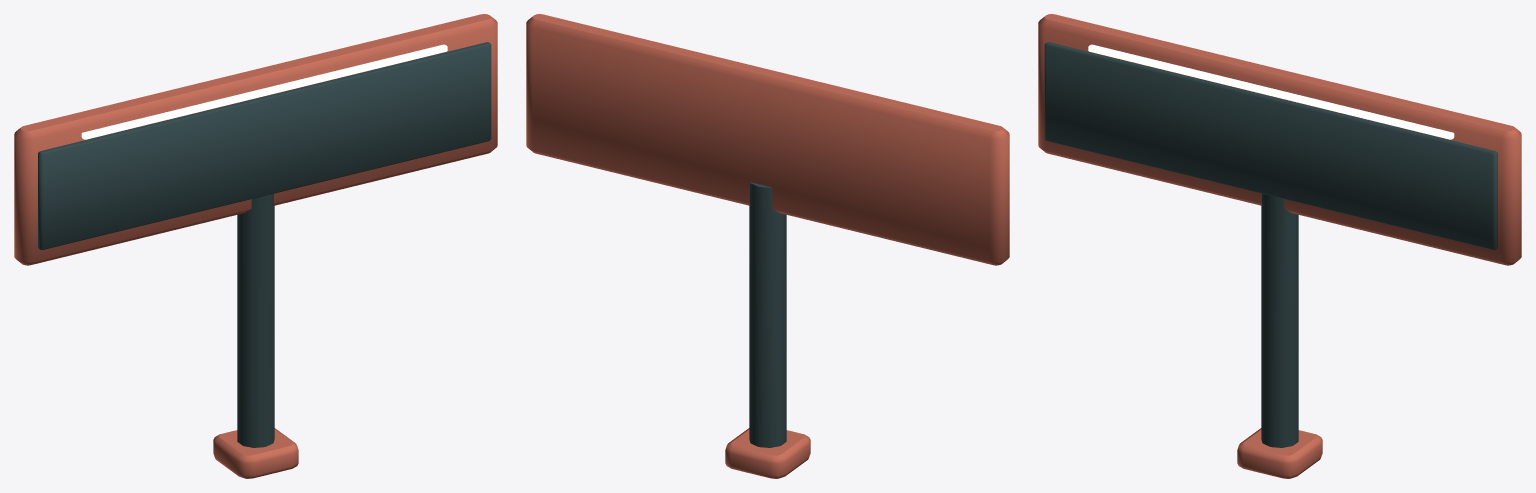
Rendered from billboard_5.glb.
The picture shows the model from 3 angles, left to right: view 1: azimuth 30°, elevation 25°; view 2: azimuth 150°, elevation 25°; view 3: azimuth 330°, elevation 25°; orthographic projection.
Parts seen in each view (by area): view 1: Billboard; view 2: Billboard; view 3: Billboard.
Part boxes in pixels (box(x1,y1,x2,y2)): Billboard: box(14, 14, 497, 478); Billboard: box(526, 14, 1009, 478); Billboard: box(1038, 14, 1521, 478).
Bounding box in the file's own units: 4.95 × 3.86 × 0.6364.
